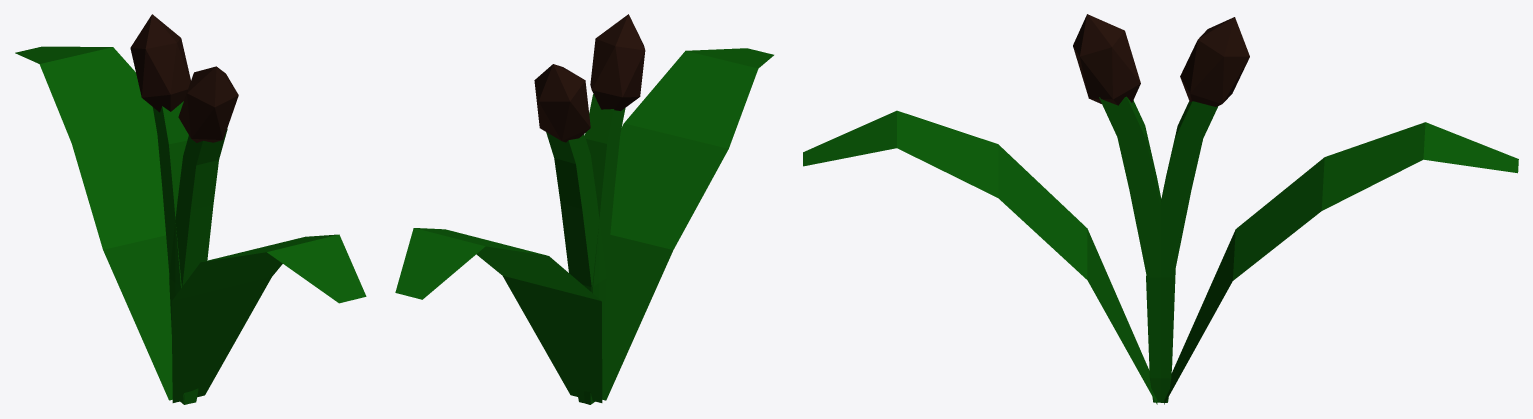
Rendered from seaWeed.obj.
3 views of the same model, side by side, from view 1: azimuth 30°, elevation 25°; view 2: azimuth 150°, elevation 25°; view 3: azimuth 270°, elevation 25° (orthographic). The views are drawn at different scales.
Visible parts, largest first — view 1: Plane.002; view 2: Plane.002; view 3: Plane.002.
Boxes of the visible parts, x1,y1,x2,y2 form: Plane.002: (15,14,366,404); Plane.002: (395,14,773,404); Plane.002: (803,14,1518,404).
Bounding box in the file's own units: 0.6553 × 1.75 × 2.96.
